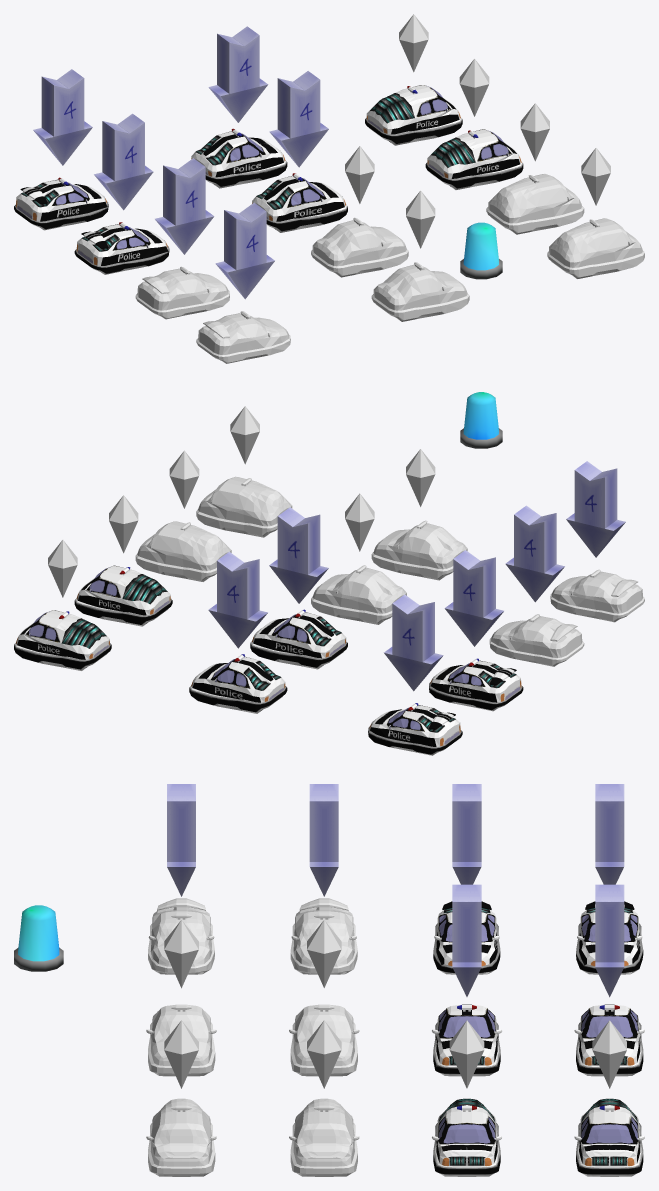
File: taxis.dae
The picture shows the model from 3 angles, top to bottom: view 1: azimuth 30°, elevation 25°; view 2: azimuth 150°, elevation 25°; view 3: azimuth 270°, elevation 25°; orthographic projection. The views are drawn at different scales.
Parts seen in each view (by area): view 1: inst_gprobust, inst_grobust, inst_robust, inst_probust, inst_gtaxi, inst_taxi, inst_gptaxi, inst_ptaxi, marqueur_fleche_001, marqueur_fleche_006, marqueur_fleche_002, inst_psport (+13 smaller); view 2: inst_gprobust, inst_probust, inst_grobust, inst_gptaxi, inst_ptaxi, inst_robust, inst_gtaxi, inst_taxi, marqueur_fleche_004, marqueur_fleche_006, marqueur_fleche_002, marqueur_fleche_003 (+13 smaller); view 3: inst_gprobust, inst_robust, inst_probust, inst_grobust, inst_sport, inst_gsport, inst_taxi, inst_gptaxi, inst_ptaxi, inst_gtaxi, marqueur_fleche_005, marqueur_fleche_006 (+13 smaller).
Boxes of the visible parts, x1=… form: inst_gprobust: x1=365, y1=85, x2=462, y2=145; inst_grobust: x1=547, y1=218, x2=644, y2=278; inst_robust: x1=486, y1=174, x2=584, y2=234; inst_probust: x1=425, y1=129, x2=523, y2=189; inst_gtaxi: x1=371, y1=262, x2=469, y2=321; inst_taxi: x1=311, y1=217, x2=408, y2=277; inst_gptaxi: x1=191, y1=128, x2=287, y2=188; inst_ptaxi: x1=252, y1=173, x2=347, y2=232; marqueur_fleche_001: x1=33, y1=69, x2=92, y2=165; marqueur_fleche_006: x1=269, y1=71, x2=328, y2=167; marqueur_fleche_002: x1=94, y1=113, x2=153, y2=210; inst_psport: x1=74, y1=222, x2=169, y2=274; inst_gprobust: x1=14, y1=610, x2=111, y2=670; inst_probust: x1=74, y1=565, x2=172, y2=626; inst_grobust: x1=196, y1=476, x2=292, y2=537; inst_gptaxi: x1=189, y1=654, x2=287, y2=713; inst_ptaxi: x1=250, y1=609, x2=347, y2=669; inst_robust: x1=135, y1=521, x2=231, y2=581; inst_gtaxi: x1=371, y1=520, x2=467, y2=580; inst_taxi: x1=311, y1=565, x2=406, y2=624; marqueur_fleche_004: x1=566, y1=461, x2=625, y2=557; marqueur_fleche_006: x1=269, y1=507, x2=328, y2=603; marqueur_fleche_002: x1=444, y1=550, x2=503, y2=646; marqueur_fleche_003: x1=505, y1=505, x2=564, y2=602; inst_gprobust: x1=574, y1=1098, x2=644, y2=1176; inst_robust: x1=289, y1=1098, x2=359, y2=1176; inst_probust: x1=432, y1=1098, x2=501, y2=1176; inst_grobust: x1=146, y1=1098, x2=216, y2=1176; inst_sport: x1=290, y1=898, x2=357, y2=974; inst_gsport: x1=148, y1=898, x2=214, y2=974; inst_taxi: x1=289, y1=1004, x2=359, y2=1076; inst_gptaxi: x1=574, y1=1004, x2=644, y2=1076; inst_ptaxi: x1=432, y1=1004, x2=501, y2=1076; inst_gtaxi: x1=146, y1=1004, x2=216, y2=1076; marqueur_fleche_005: x1=595, y1=884, x2=624, y2=997; marqueur_fleche_006: x1=452, y1=884, x2=481, y2=996.
Bounding box in the file's own units: 1.23 × 1.33 × 0.3841.
13 materials, 13 textured.
